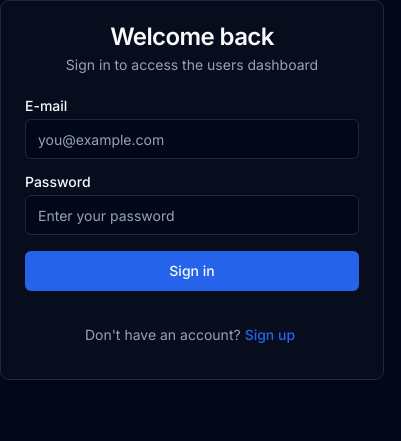
Test: <LoginForm /> › shows validation errors and does not submit invalid data
Click the button "Sign in": [192, 271] box [25, 251, 359, 291]
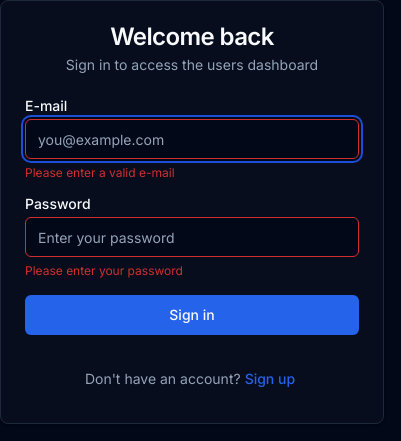
Expected: the text "Please enter a valid e-mail" is shown, [25, 165, 175, 180]
Expected: the text "Please enter your password" is shown, [25, 263, 183, 278]
